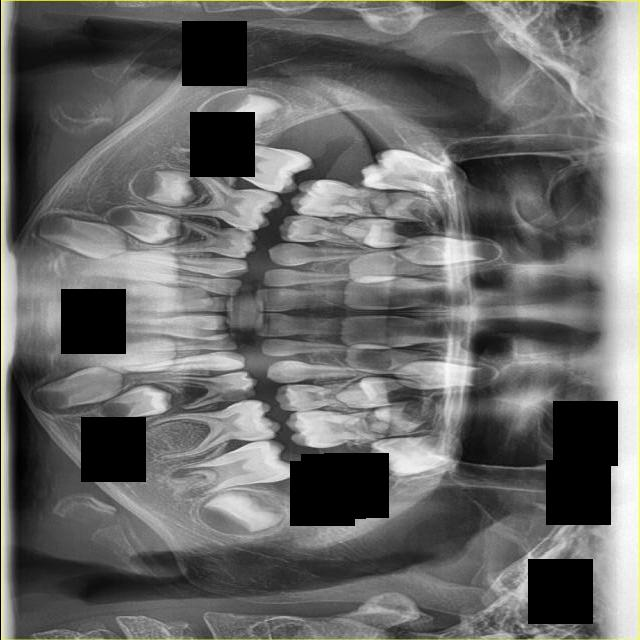Sterngold Implant: (219, 385, 253, 402), (229, 226, 251, 237), (288, 385, 311, 392), (234, 399, 250, 405)
